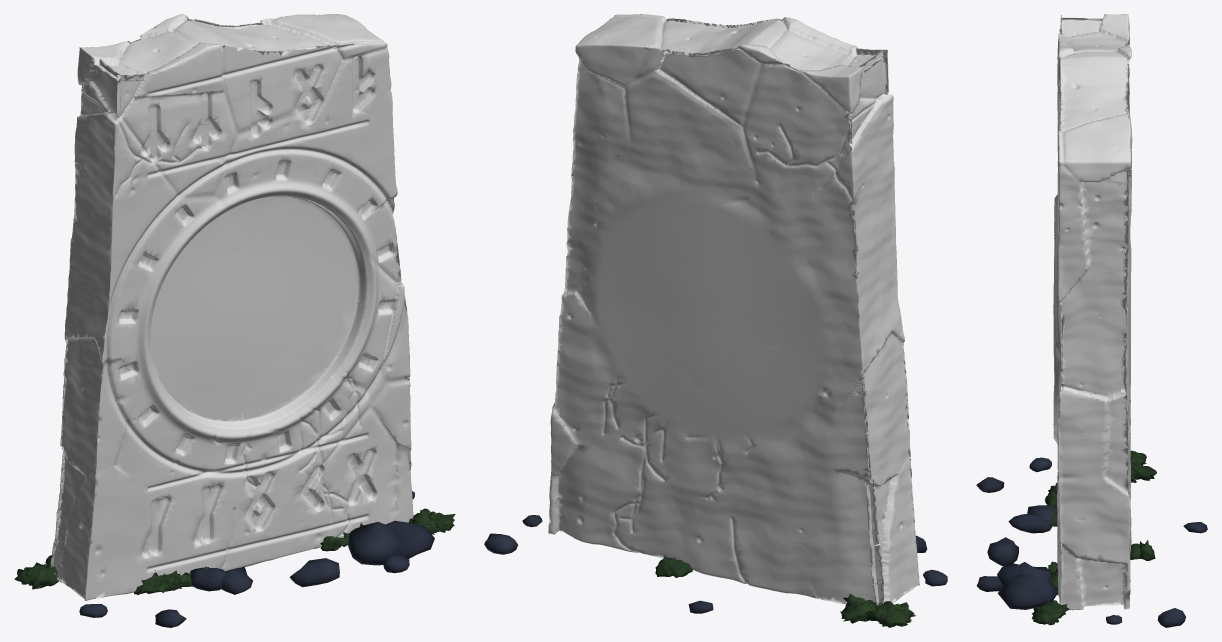
The model's file is runestone_c.glb.
3 views of the same model, side by side, from view 1: azimuth 30°, elevation 25°; view 2: azimuth 150°, elevation 25°; view 3: azimuth 270°, elevation 25° (orthographic). The views are drawn at different scales.
Visible parts, largest first — view 1: Stone, Debris; view 2: Stone, Debris; view 3: Stone, Debris.
Part boxes in pixels (x1,y1,x2,y2): Stone: (50,14,413,600); Debris: (14,491,455,627); Stone: (548,14,919,605); Debris: (484,515,947,627); Stone: (1053,14,1132,610); Debris: (976,450,1207,627).
Bounding box in the file's own units: 4.28 × 5.52 × 2.43.
